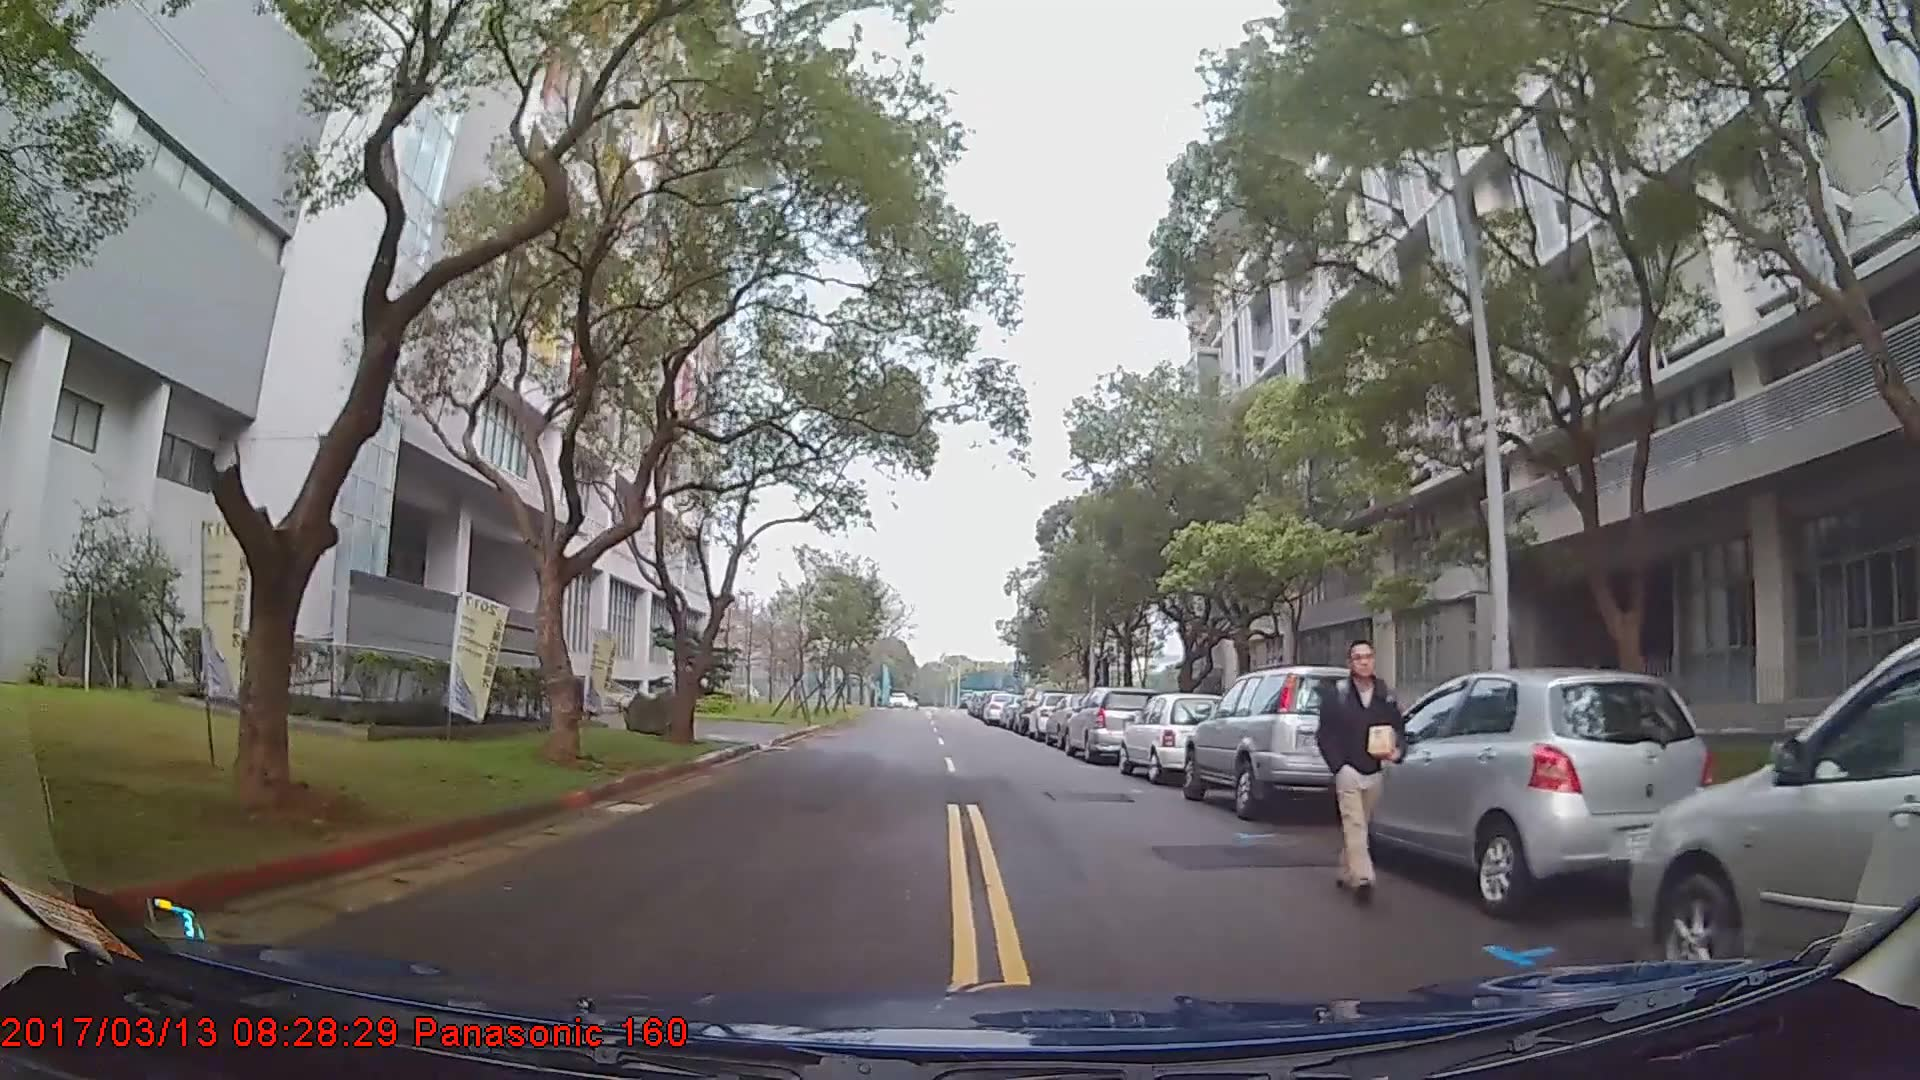pedestrian: (1320, 639, 1417, 903)
vehicle: (1626, 632, 1919, 986), (1342, 661, 1718, 915), (1182, 662, 1406, 817), (1117, 690, 1236, 781), (1063, 684, 1162, 762), (982, 687, 1020, 724)
